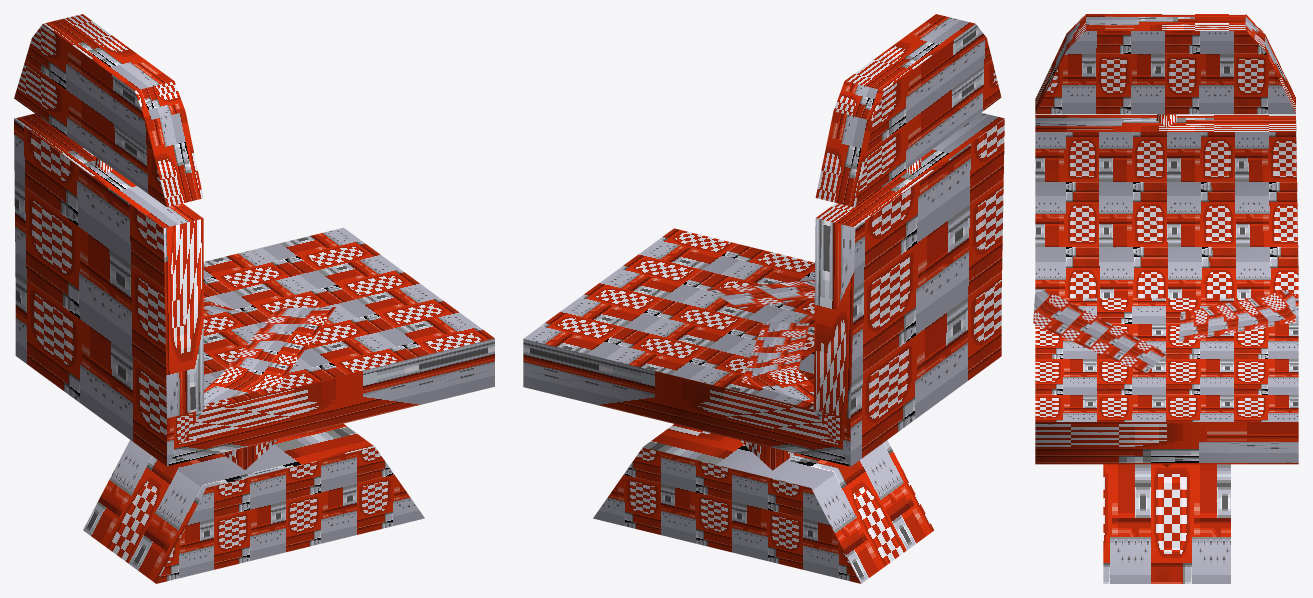
File: 3577kg_18_isu.gltf
3 renders of one model, left to right at view 1: azimuth 30°, elevation 25°; view 2: azimuth 150°, elevation 25°; view 3: azimuth 270°, elevation 25°, orthographic. The views are drawn at different scales.
Visible parts, largest first — view 1: 3577kg_18_isu; view 2: 3577kg_18_isu; view 3: 3577kg_18_isu.
Part boxes in pixels (left/top/right/bottom): 3577kg_18_isu: left=14, top=14, right=494, bottom=583; 3577kg_18_isu: left=523, top=14, right=1004, bottom=583; 3577kg_18_isu: left=1033, top=14, right=1298, bottom=583.
Size of the model in its own units: 0.7588 by 1.11 by 0.605.
Materials: 1 (1 with a texture image).
